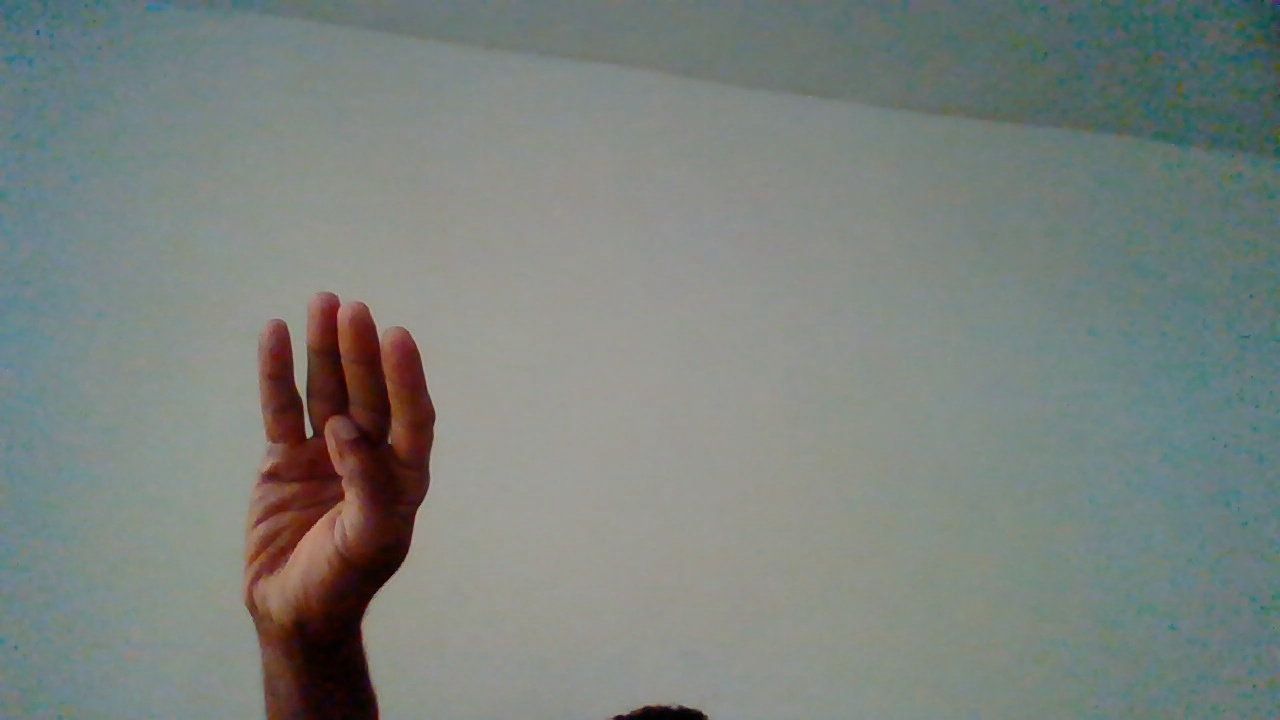me: (247, 297, 434, 699)
